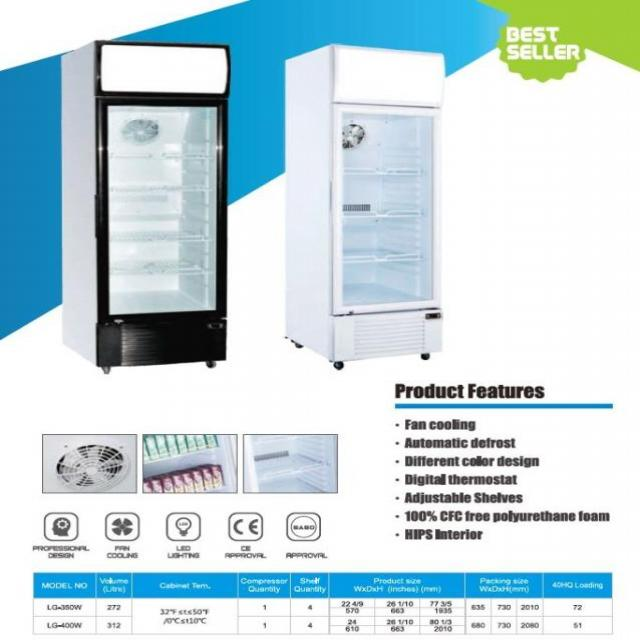refrigerator: (95, 38, 232, 367), (328, 42, 443, 363)
